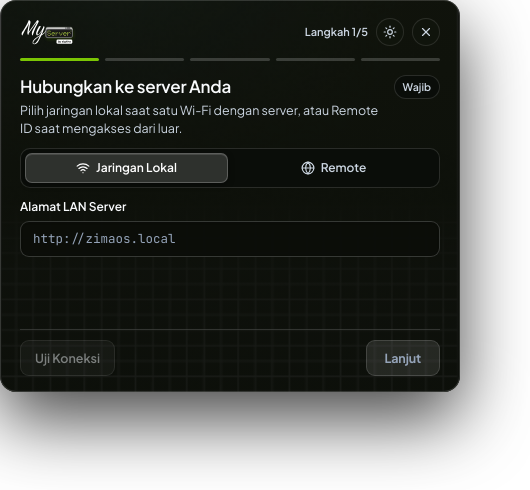
Test: SetupWizard first-run gating (WIZ-01, WIZ-02, WIZ-06, D-04..D-06, T-03-09) › close × before Step 1+3 shows the guard toast, stays mounted and never hides the window
Click the button named "Setup Wizard".
click(426, 32)  # box [412,18,440,46]
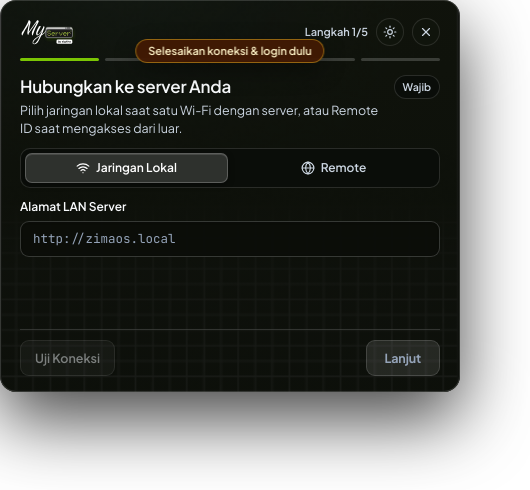
Now the text "Selesaikan koneksi & login dulu" is shown, box [135,39,325,63]
